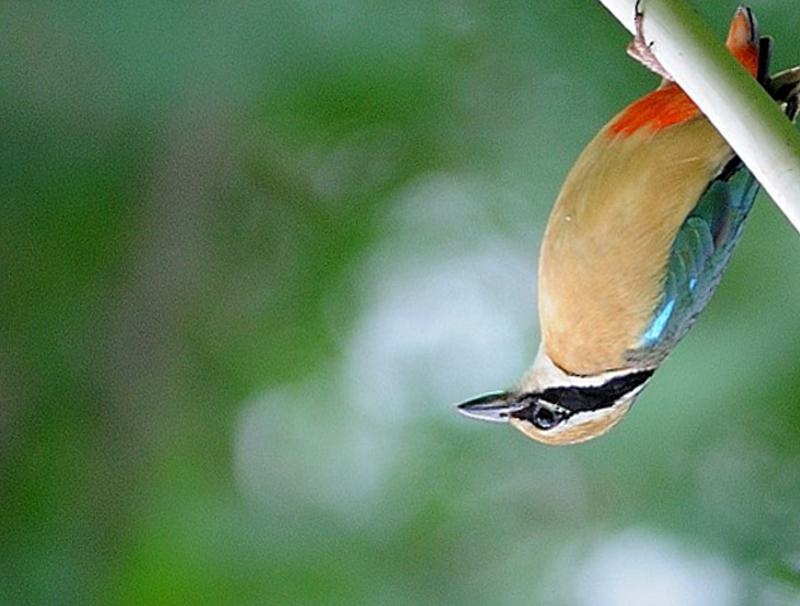pitta: (445, 45, 800, 464)
